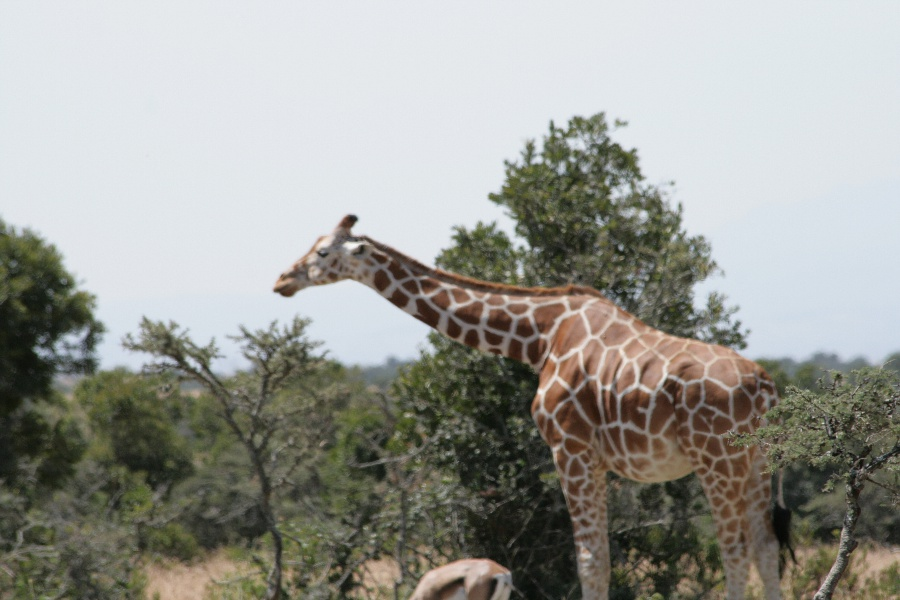giraffe: (266, 203, 800, 599)
